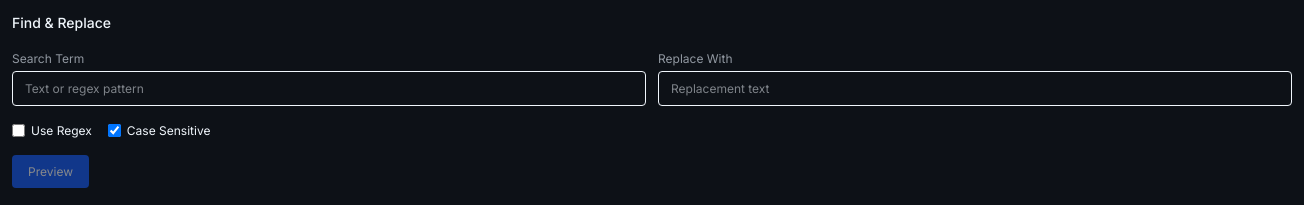
Scenario: FindReplacePanel › enables preview button when both inputs have values
Type "old-text" into the field with test id "search-term-input" at (329, 88), box [12,71,646,106]
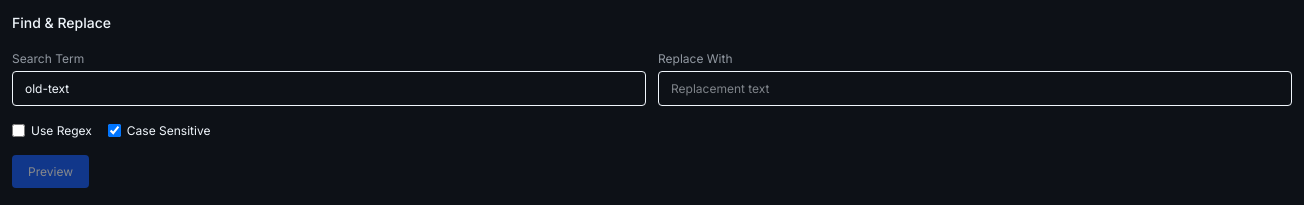
Type "new-text" into the field with test id "replace-with-input" at (975, 88), box [658,71,1292,106]
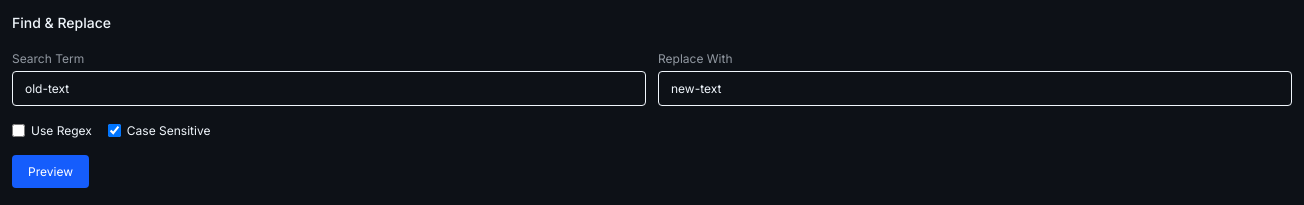
Expected: the button with test id "preview-btn" is enabled, [12,155,89,188]
